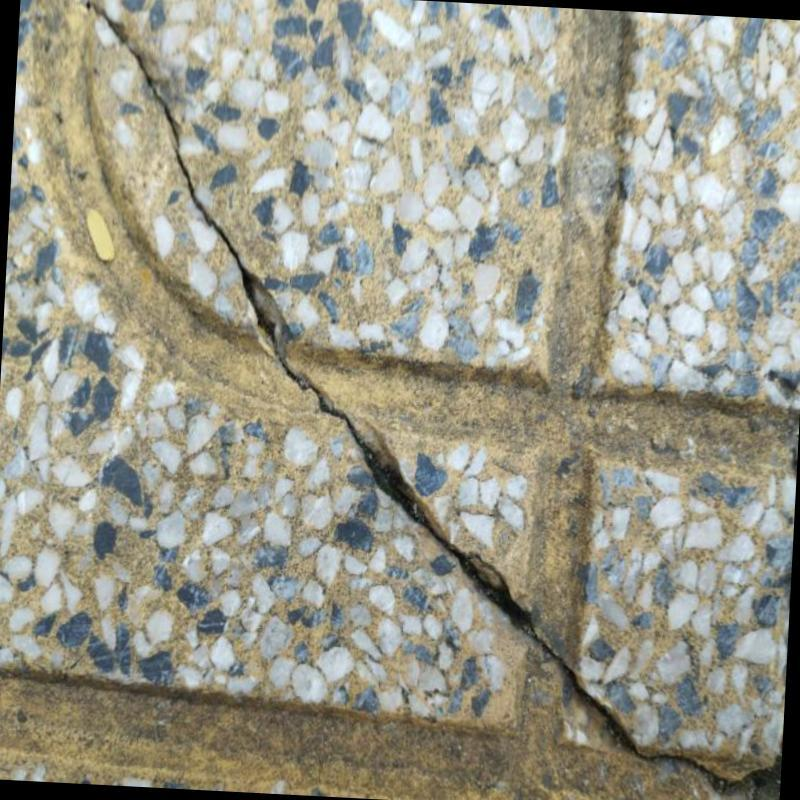pothole: (95, 5, 781, 800)
